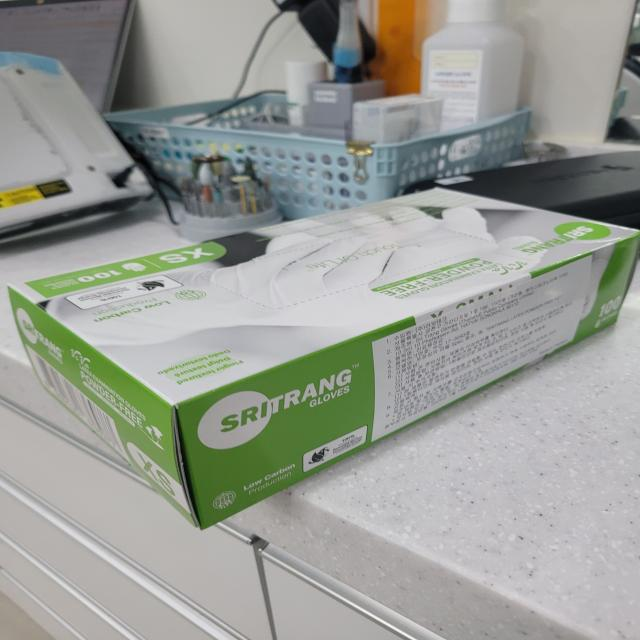glove: (3, 181, 640, 540)
